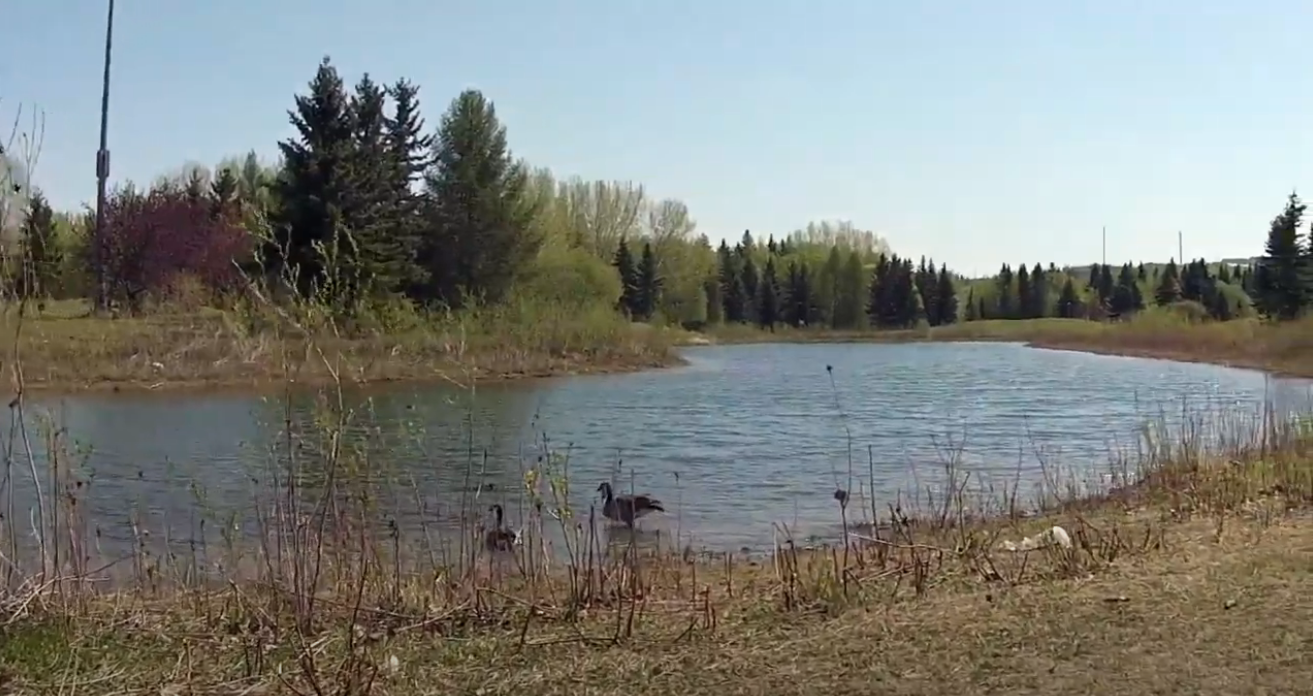goose: (593, 478, 668, 523), (484, 496, 519, 551)
